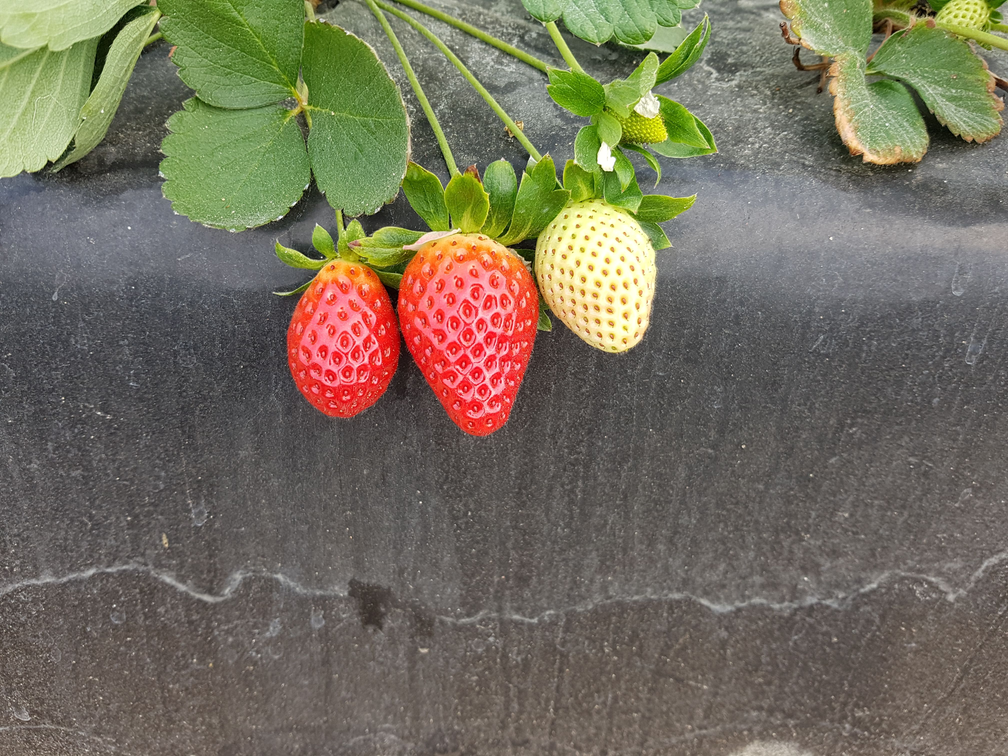peduncle: (392, 11, 541, 160), (366, 0, 457, 174), (402, 0, 547, 71), (545, 22, 585, 72)
strawberry: (399, 235, 537, 435), (535, 199, 654, 352), (287, 259, 397, 416)
